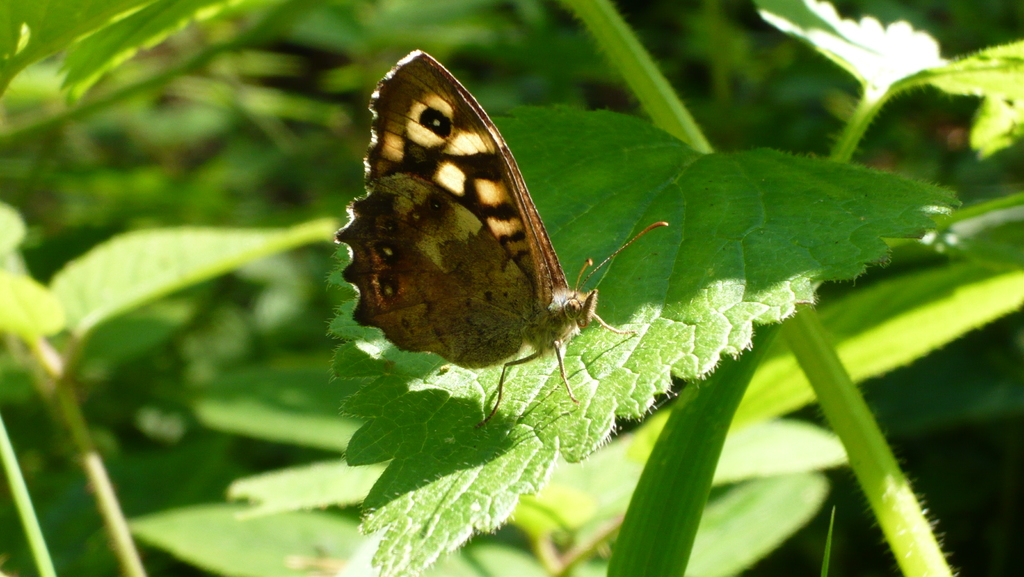Butterfly: (332, 27, 612, 418)
